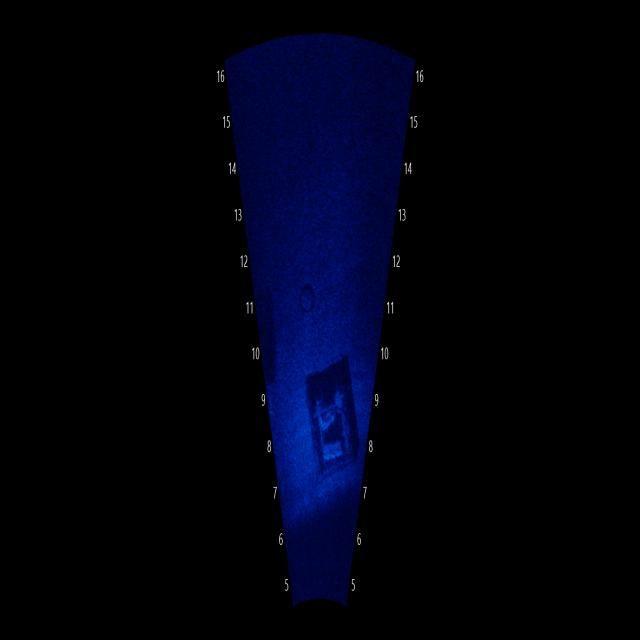square: (298, 322, 361, 508)
